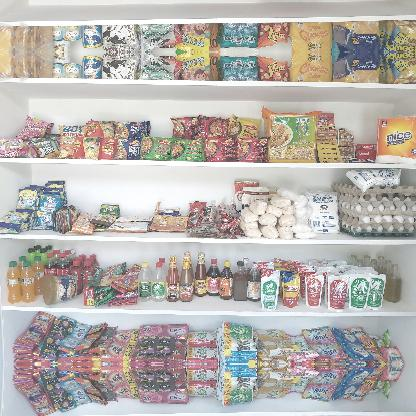Lady-s-Choice: (40, 270, 78, 306)
